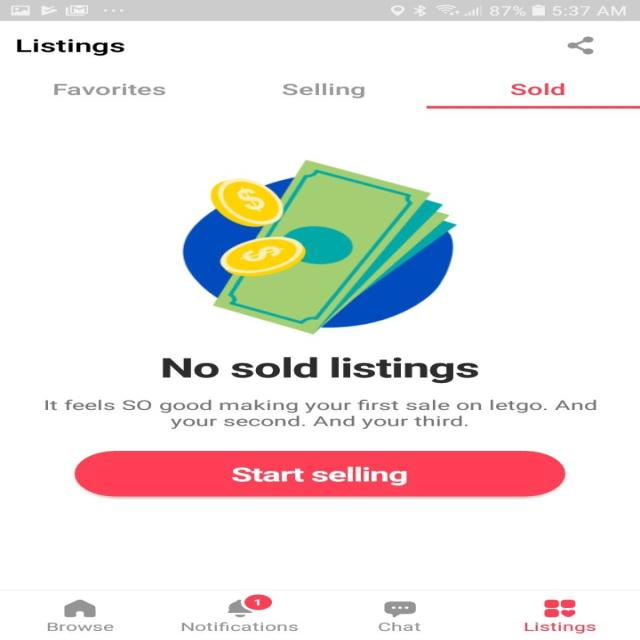Icon: (226, 593, 272, 617), (63, 598, 96, 617), (542, 599, 576, 617), (383, 600, 416, 618), (566, 36, 594, 55)
Image: (181, 160, 457, 334)
Text: (44, 398, 596, 429), (162, 356, 478, 384), (15, 38, 124, 56), (282, 82, 364, 99), (54, 83, 165, 95), (181, 621, 298, 631), (524, 621, 596, 634), (510, 82, 564, 96), (47, 621, 114, 631), (378, 621, 420, 631)
TextButton: (73, 451, 566, 496)
